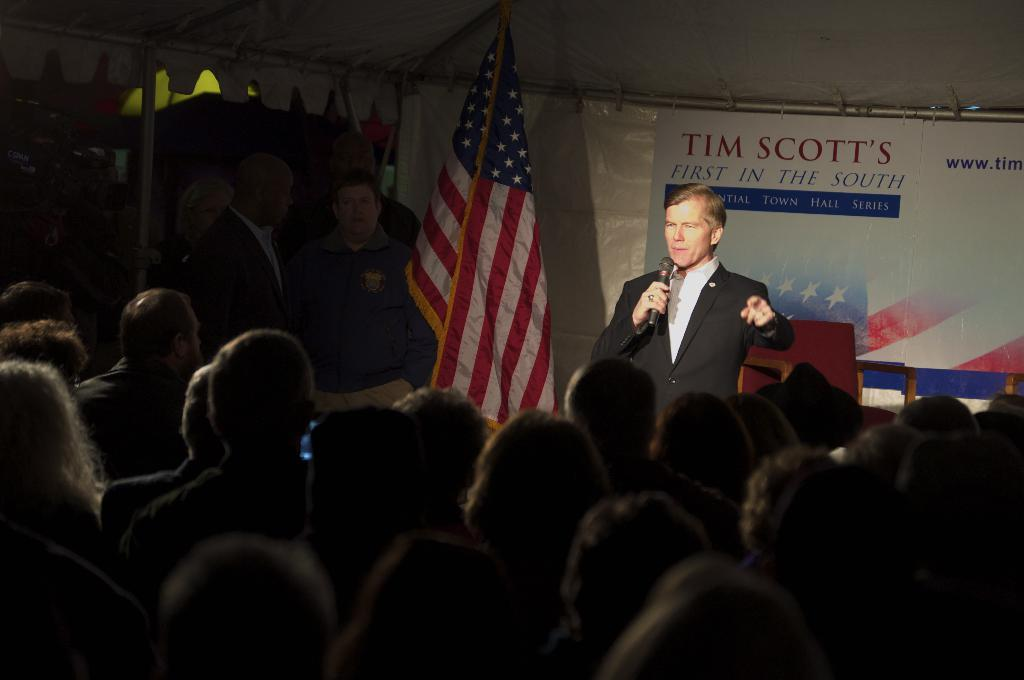Sem Máscara: (660, 196, 713, 266), (332, 180, 378, 237), (177, 299, 203, 372), (271, 169, 300, 228)
